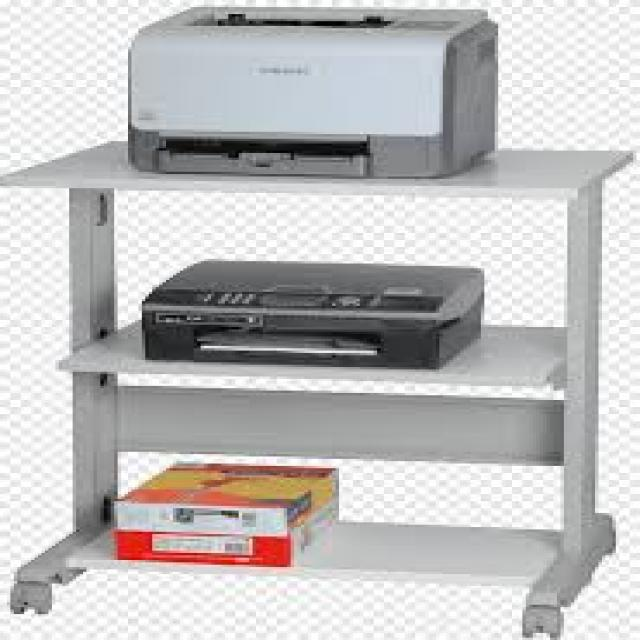printer: (104, 0, 508, 186), (131, 230, 507, 381)
